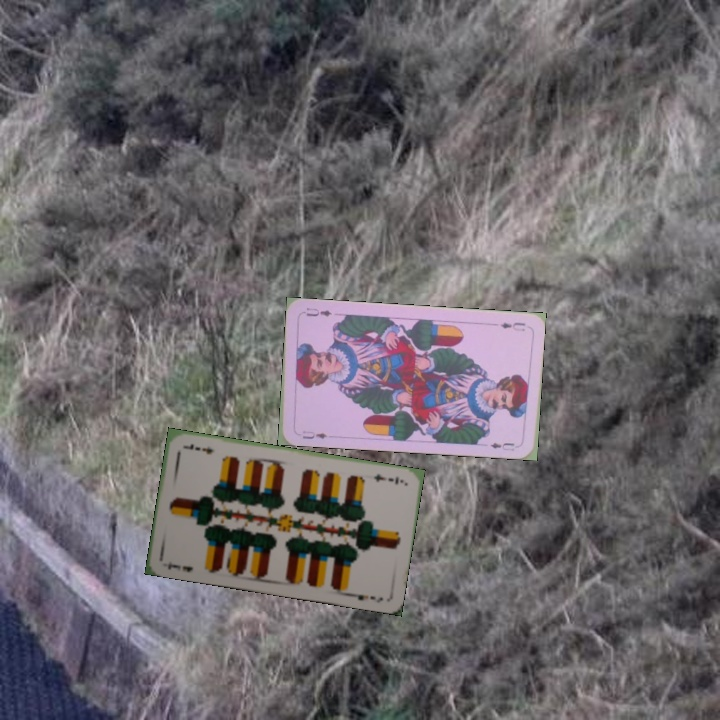E7: (369, 470, 406, 487), (163, 557, 195, 575)
EU: (496, 318, 528, 334), (299, 427, 329, 442)
